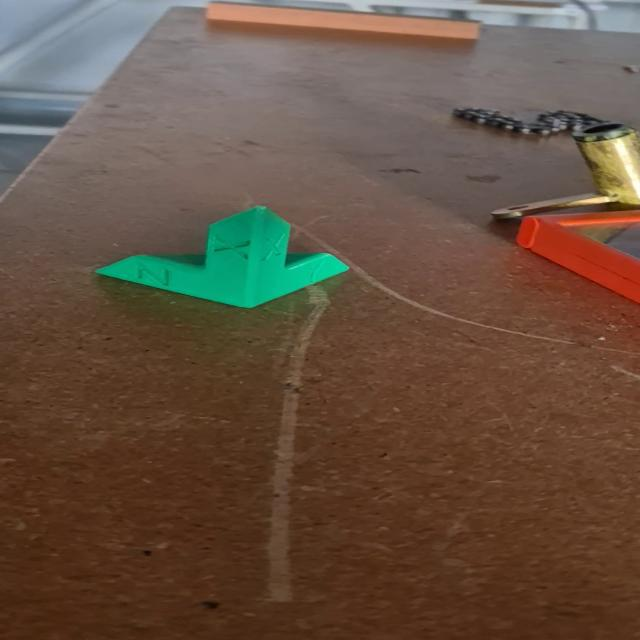objects: (90, 204, 354, 310)
